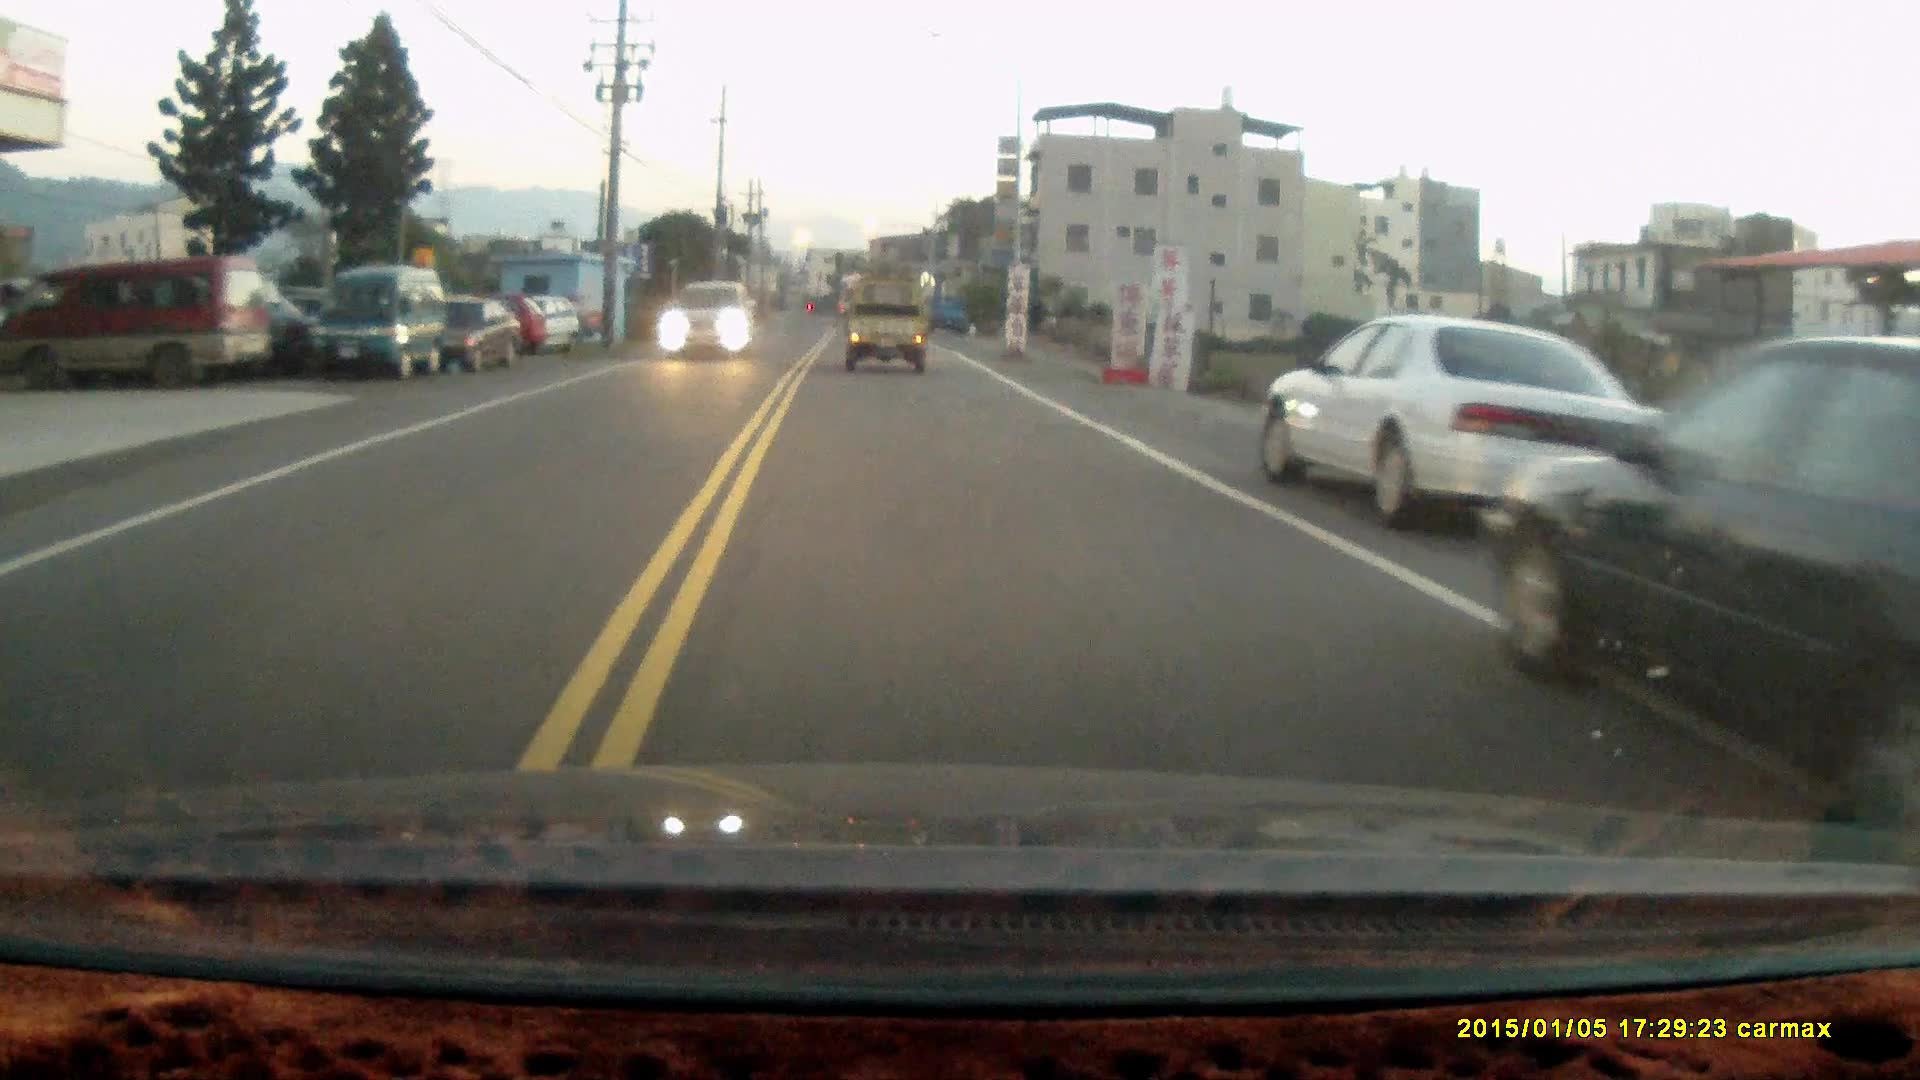vehicle: (1485, 326, 1920, 824), (1258, 315, 1658, 537), (1, 258, 273, 384), (309, 262, 448, 380), (659, 278, 761, 360), (847, 280, 931, 373), (451, 293, 524, 378)
